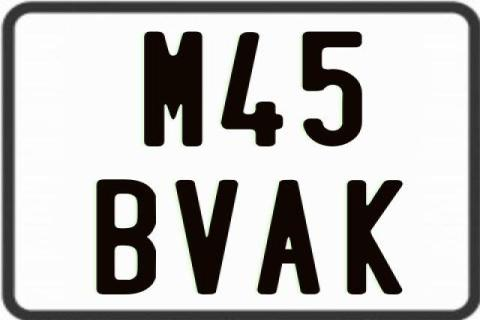0: (221, 32, 285, 146), (299, 30, 359, 146)
A: (256, 180, 321, 298)
B: (94, 180, 158, 300)
K: (346, 180, 407, 298)
M: (141, 29, 202, 149)
V: (172, 178, 240, 294)
